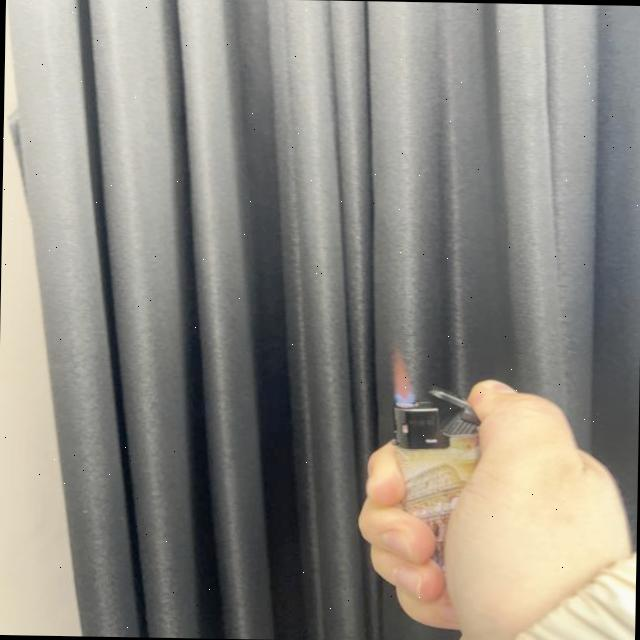fire: (390, 346, 416, 404)
